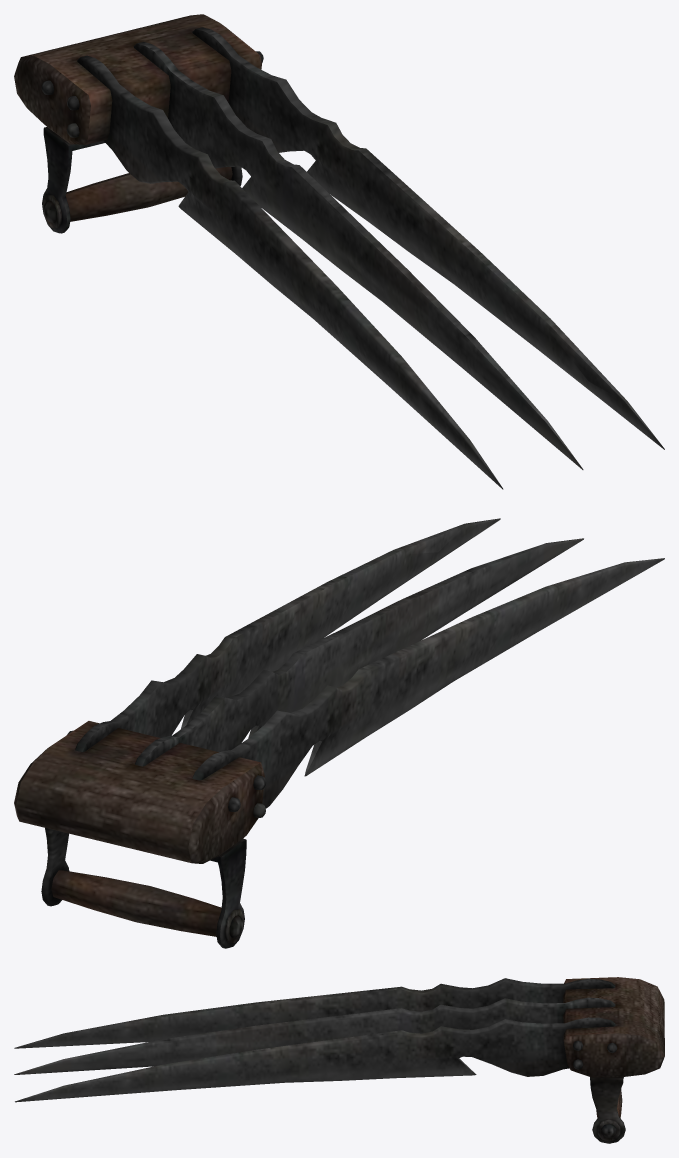
File: claw_l.glb
3 renders of one model, top to bottom at view 1: azimuth 30°, elevation 25°; view 2: azimuth 150°, elevation 25°; view 3: azimuth 270°, elevation 25°, orthographic. The views are drawn at different scales.
Parts seen in each view (by area): view 1: claw_l; view 2: claw_l; view 3: claw_l.
Boxes of the visible parts, bbox=[...] form: claw_l: bbox=[14, 14, 664, 489]; claw_l: bbox=[14, 518, 664, 948]; claw_l: bbox=[14, 977, 664, 1143].
Size of the model in its own units: 0.1876 by 0.157 by 0.8.
1 material, 1 textured.
